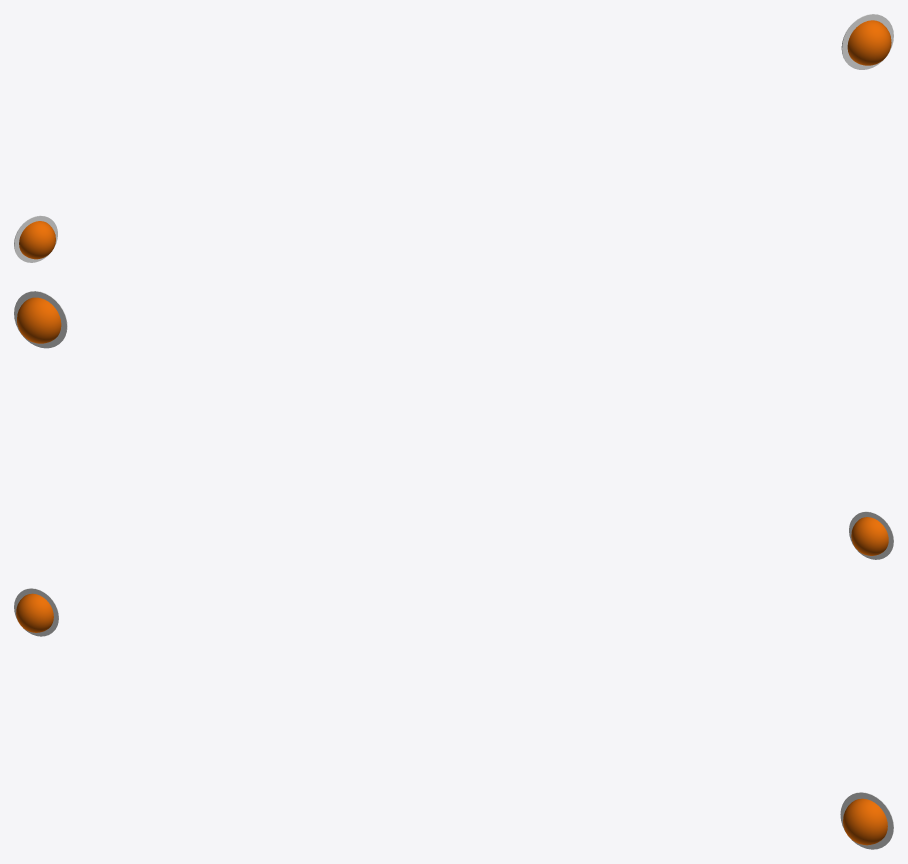
The model's file is sankhau_L5.glb.
3 views of the same model, one above another, from view 1: azimuth 30°, elevation 25°; view 2: azimuth 150°, elevation 25°; view 3: azimuth 330°, elevation 25° (orthographic). The views are drawn at different scales.
Visible parts, largest first — view 1: _l1_Sphere.002, _l1_Sphere.001; view 2: _l1_Sphere.002, _l1_Sphere.001; view 3: _l1_Sphere.002, _l1_Sphere.001.
Boxes of the visible parts, x1,y1,x2,y2 form: _l1_Sphere.002: (841, 14, 893, 69); _l1_Sphere.001: (14, 215, 57, 262); _l1_Sphere.002: (14, 291, 67, 348); _l1_Sphere.001: (849, 511, 893, 559); _l1_Sphere.002: (840, 792, 893, 849); _l1_Sphere.001: (14, 588, 58, 636).
Bounding box in the file's own units: 3.22 × 0.1921 × 0.2009.
